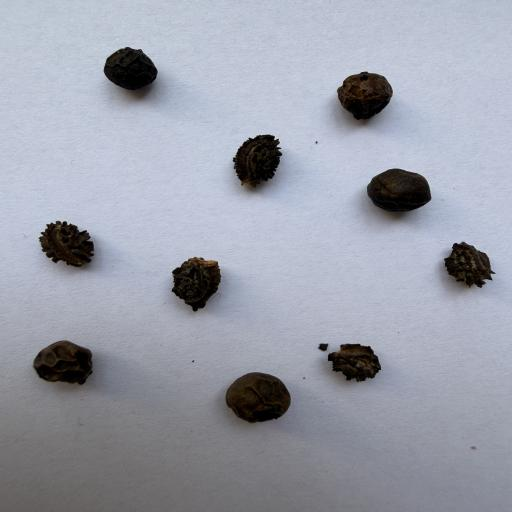Black_pepper: (221, 369, 289, 422), (336, 69, 396, 119), (369, 167, 432, 213), (34, 338, 93, 386), (102, 46, 158, 91)
papaya_seed: (12, 213, 123, 282), (421, 224, 512, 301), (161, 245, 246, 325), (316, 340, 420, 391), (229, 130, 291, 198)
